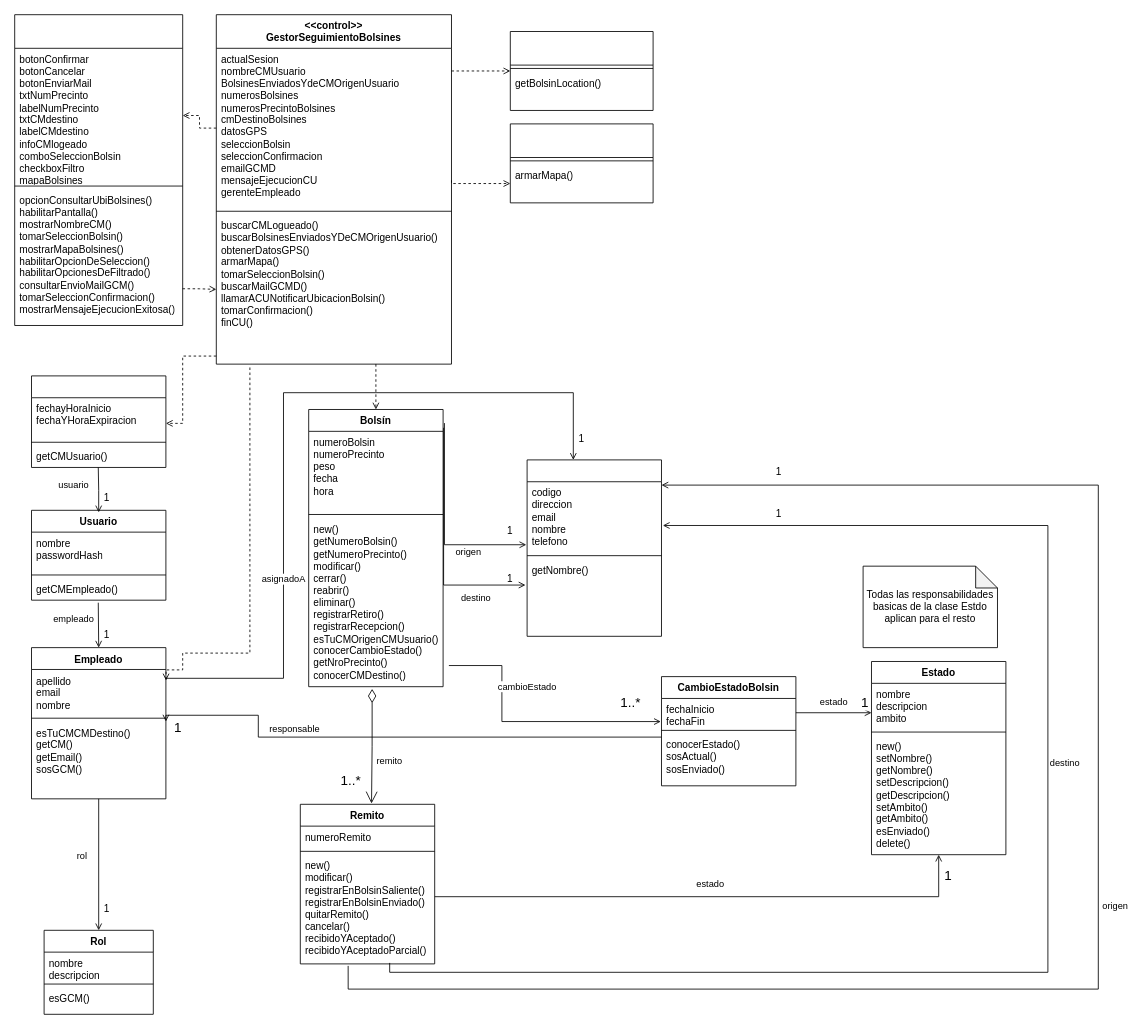
Image size: 1142x1032. Some labels were removed from this diagram. Each missing label, with the box of its shape:
<<interfaz>> InterfazGoogleMaps: (509, 123, 653, 203)
<<interfaz>> InterfazGPSTracker: (509, 31, 653, 110)
<<interfaz>> PantSeguimientoBolsines: (14, 14, 183, 326)
ComisionMedica: (526, 459, 662, 636)
Sesion: (31, 375, 166, 467)
